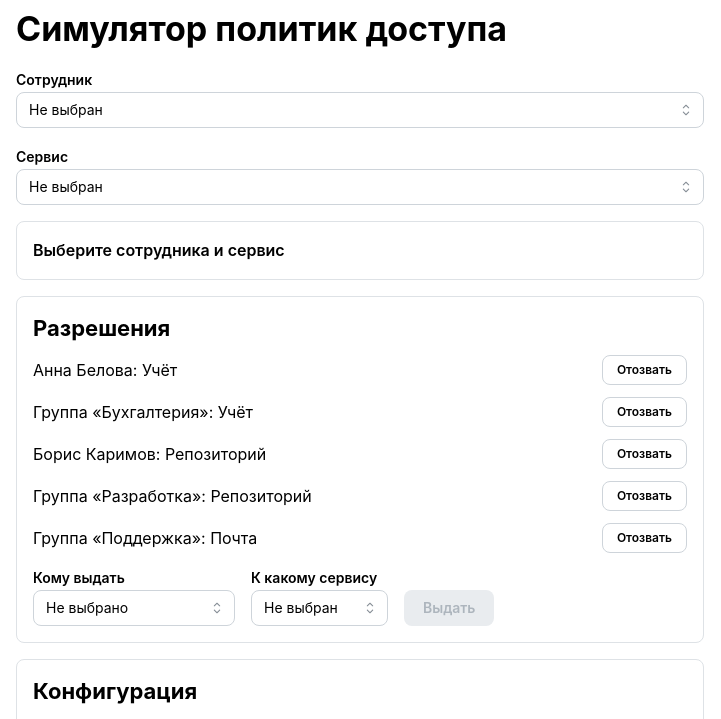
Test: редактирование разрешений › добавляет разрешение, и расчёт сразу его учитывает
Select "Вера Лисицына" in the dropdown with test id "permission-subject-select": [134, 608] box [33,590,235,626]
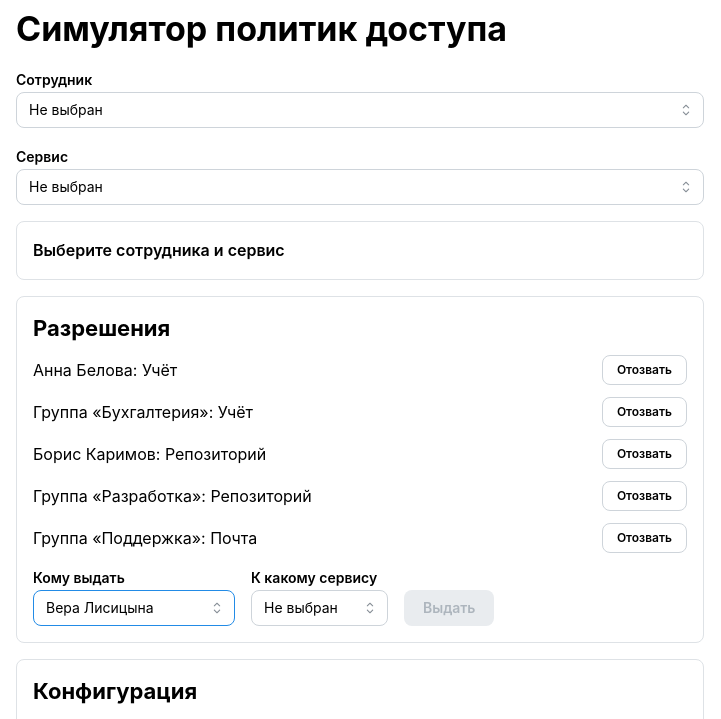
Select "Учёт" in the dropdown with test id "permission-service-select": [320, 608] box [251,590,388,626]
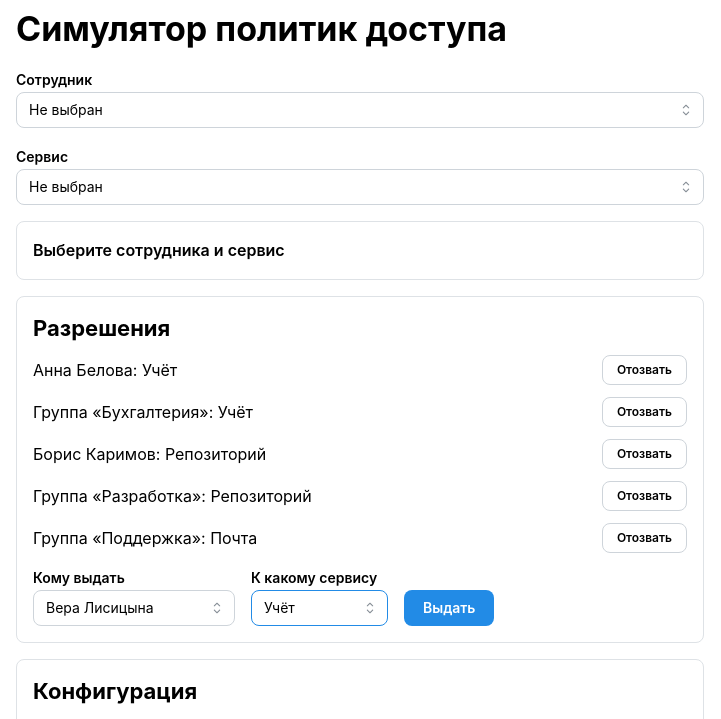
Click the button with test id "permission-add": [449, 608] box [404,590,494,626]
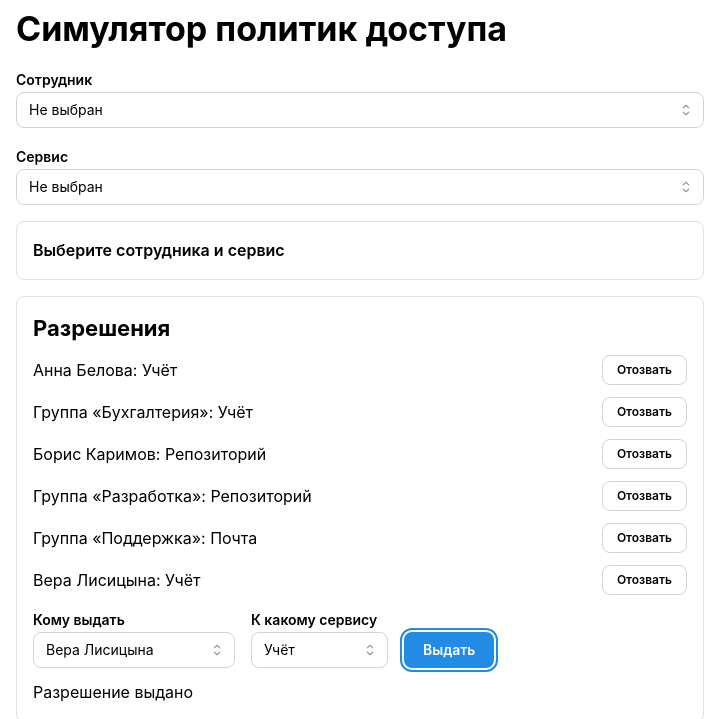
Select "Вера Лисицына" in the dropdown with test id "user-select": [360, 110] box [16,92,704,128]
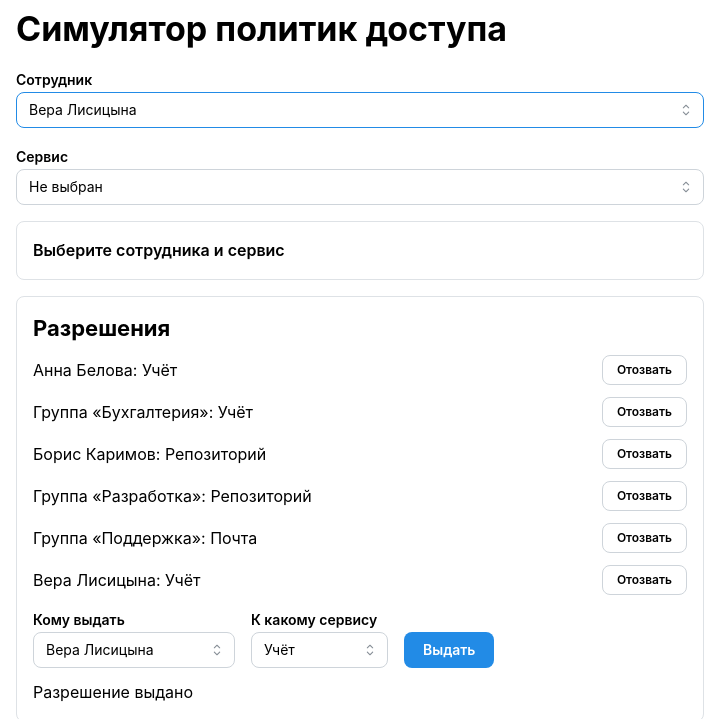
Select "Учёт" in the dropdown with test id "service-select": [360, 187] box [16,169,704,205]
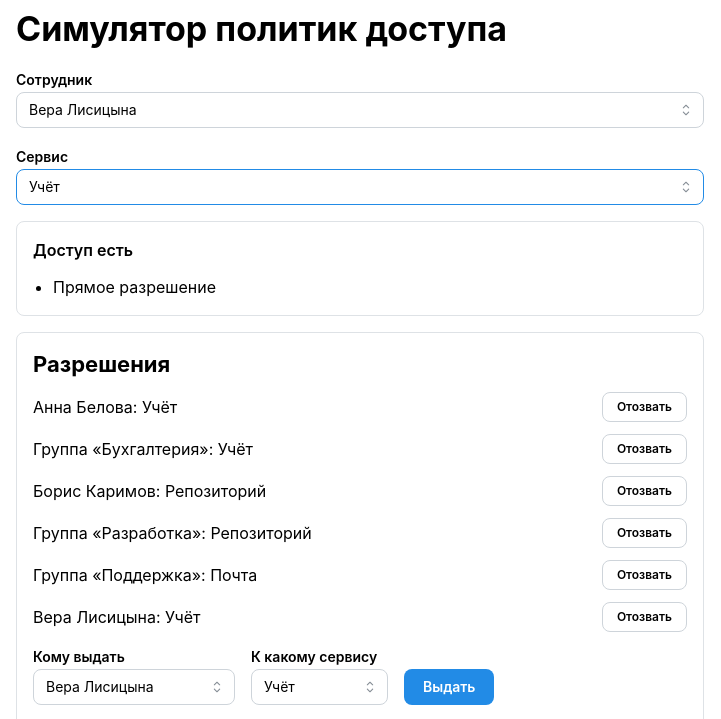
expect the text with test id "access-result" reads "Доступ есть": met, box [33,240,133,260]
